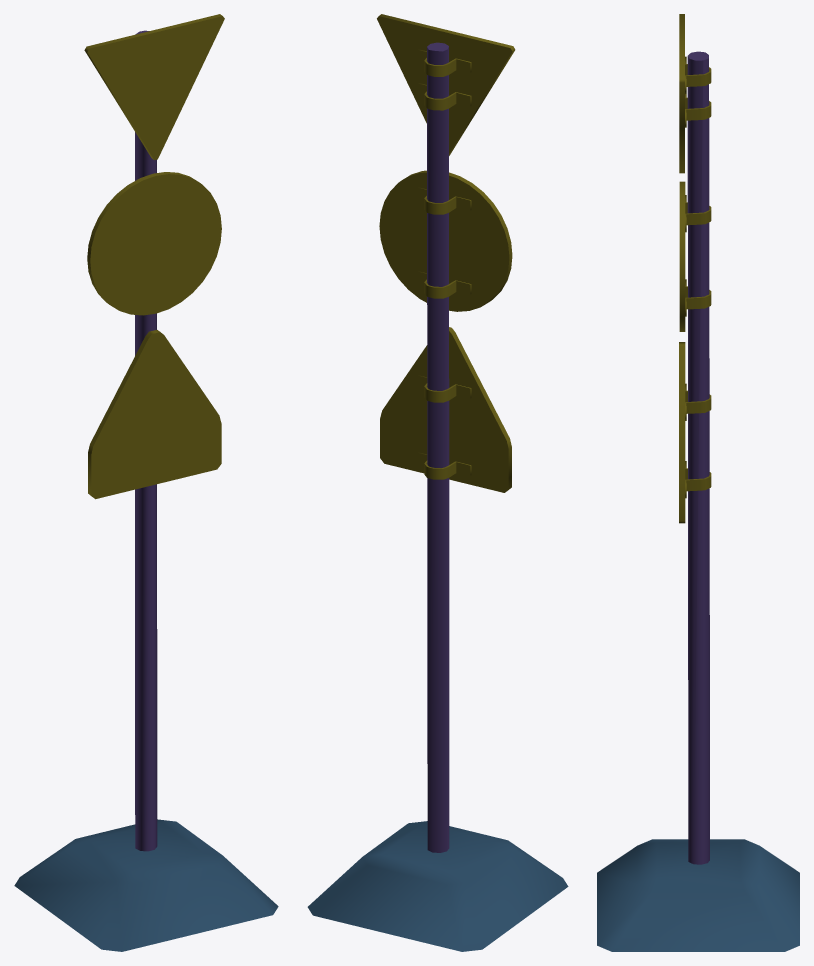
File: Roadsign.fbx
3 views of the same model, side by side, from view 1: azimuth 30°, elevation 25°; view 2: azimuth 150°, elevation 25°; view 3: azimuth 270°, elevation 25° (orthographic).
Parts seen in each view (by area): view 1: Roadsign_Mash; view 2: Roadsign_Mash; view 3: Roadsign_Mash.
Boxes of the visible parts, <box> form: Roadsign_Mash: <box>14,14,278,951</box>; Roadsign_Mash: <box>307,14,568,951</box>; Roadsign_Mash: <box>597,14,799,951</box>.
Bounding box in the file's own units: 114 × 534 × 114.
